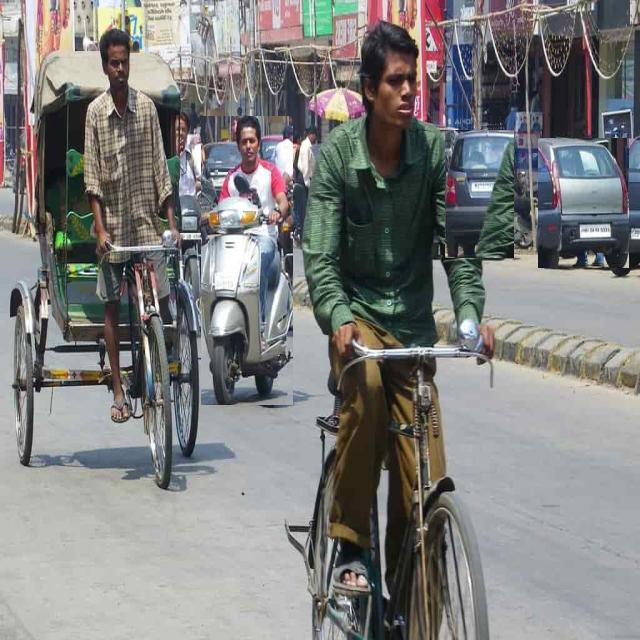bicycle: (288, 22, 492, 639)
car: (538, 138, 629, 268), (445, 131, 514, 258)
motorcycle: (201, 116, 292, 405)
